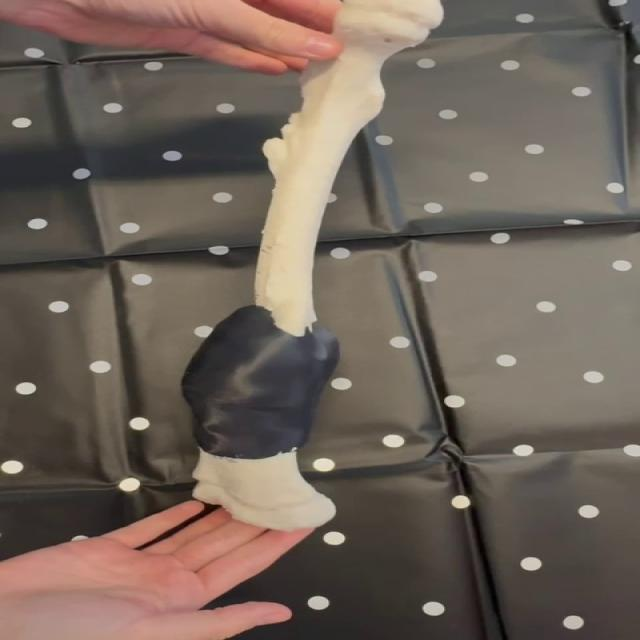bones: (182, 0, 442, 531)
